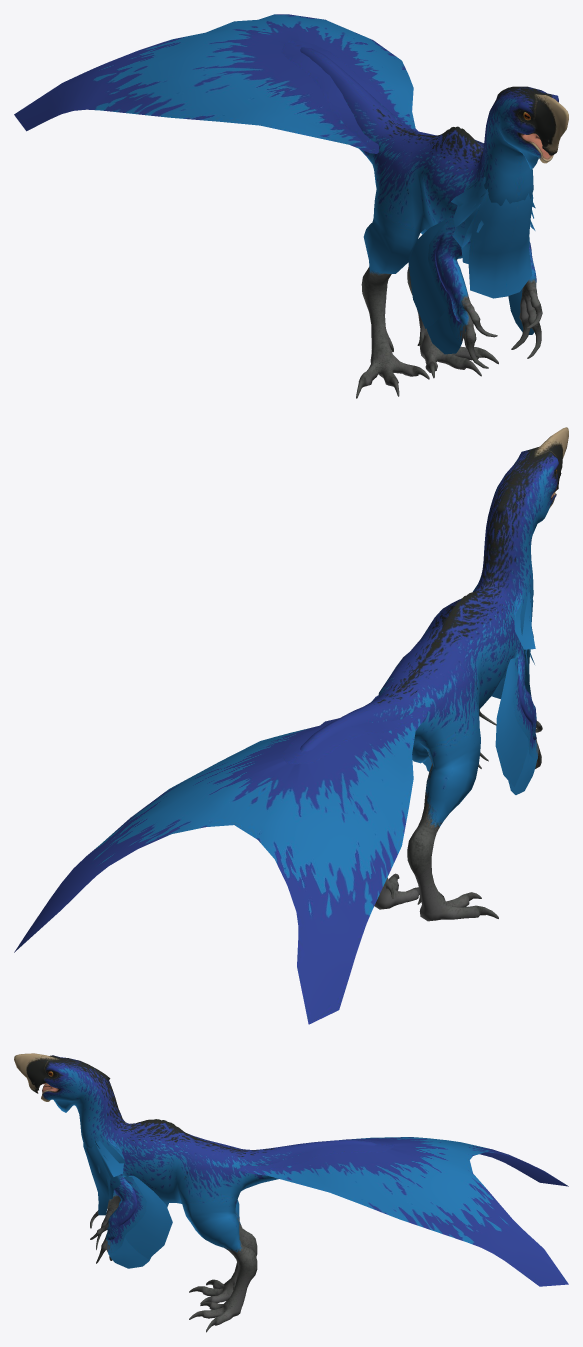
File: Oviraptor.glb
The picture shows the model from 3 angles, top to bottom: view 1: azimuth 30°, elevation 25°; view 2: azimuth 150°, elevation 25°; view 3: azimuth 270°, elevation 25°; orthographic projection. The views are drawn at different scales.
Visible parts, largest first — view 1: DW_Oviraptor_Adulto_Mayor_mesh; view 2: DW_Oviraptor_Adulto_Mayor_mesh; view 3: DW_Oviraptor_Adulto_Mayor_mesh.
Boxes of the visible parts, box(x1,y1,x2,y2) form: DW_Oviraptor_Adulto_Mayor_mesh: box(14, 14, 568, 398); DW_Oviraptor_Adulto_Mayor_mesh: box(14, 427, 568, 1024); DW_Oviraptor_Adulto_Mayor_mesh: box(14, 1053, 568, 1332).
Bounding box in the file's own units: 0.4433 × 0.5083 × 1.
Materials: 3 (3 with a texture image).
